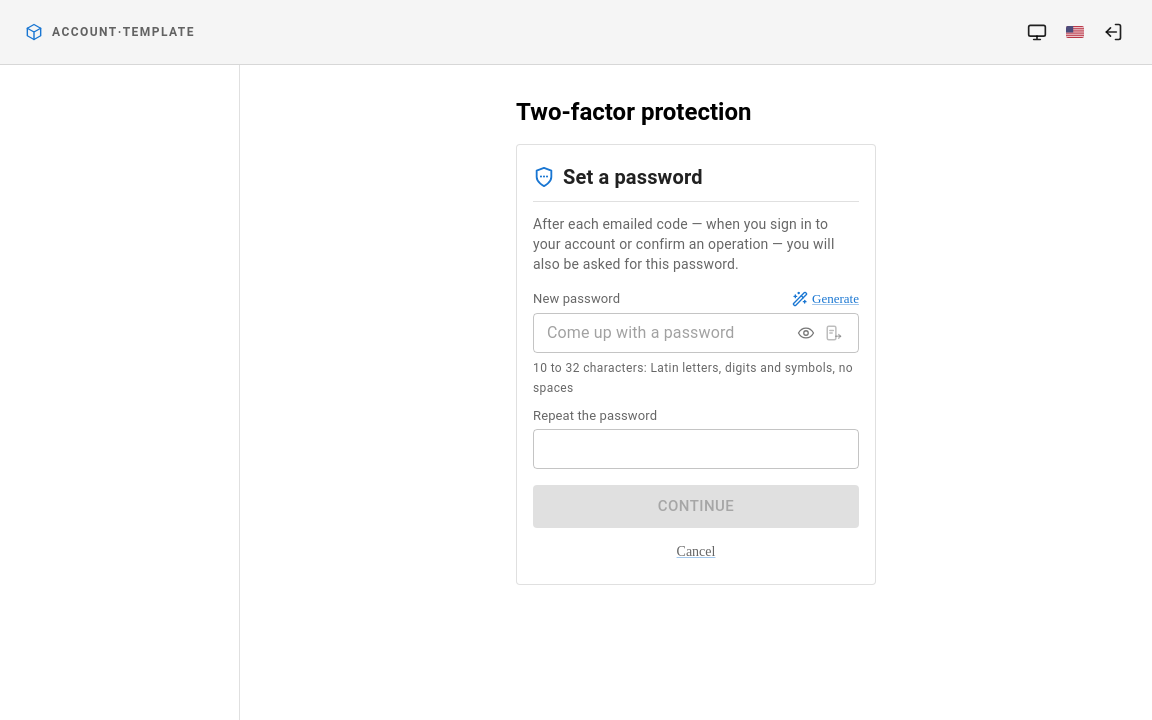
Test: PasswordSetupPage › keeps the length hint next to the rating
The width and height of the screenshot is (1152, 720).
Type "L$QI.qA6eu7zG%7w" into the password field with test id "field-new_password" at coordinates (658, 333), box [533,313,784,353]
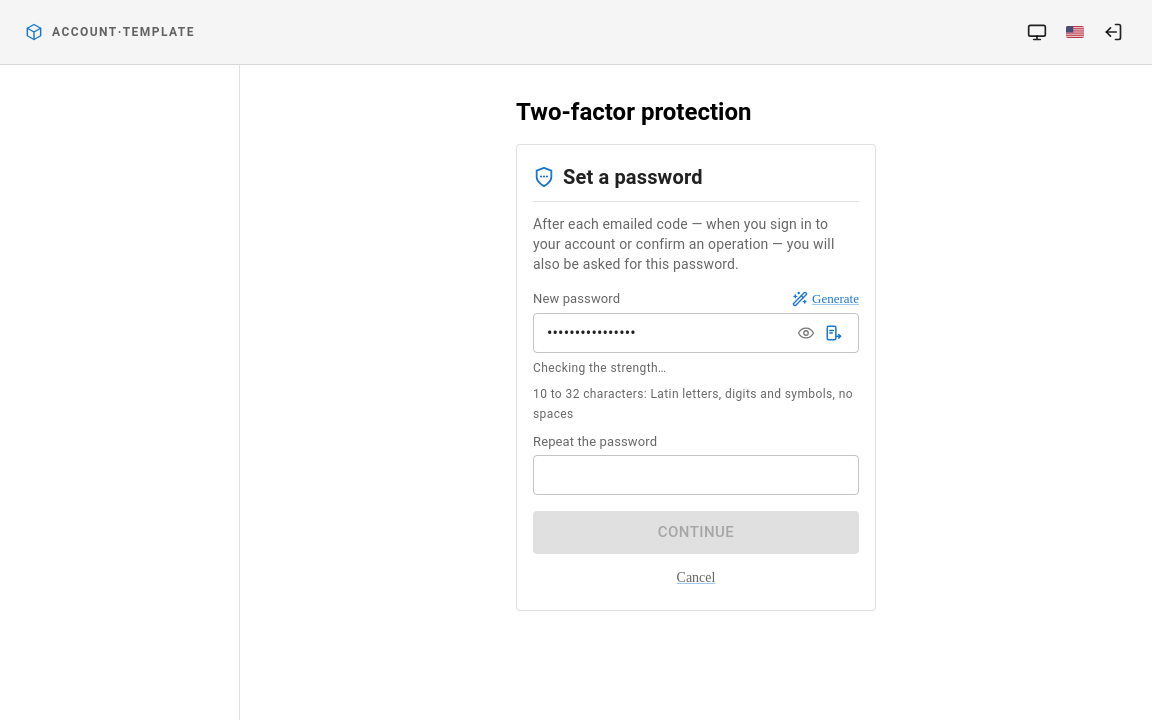
Type "L$QI.qA6eu7zG%7w" into the password field with test id "field-repeat_password" at coordinates (696, 475), box [533,455,859,495]
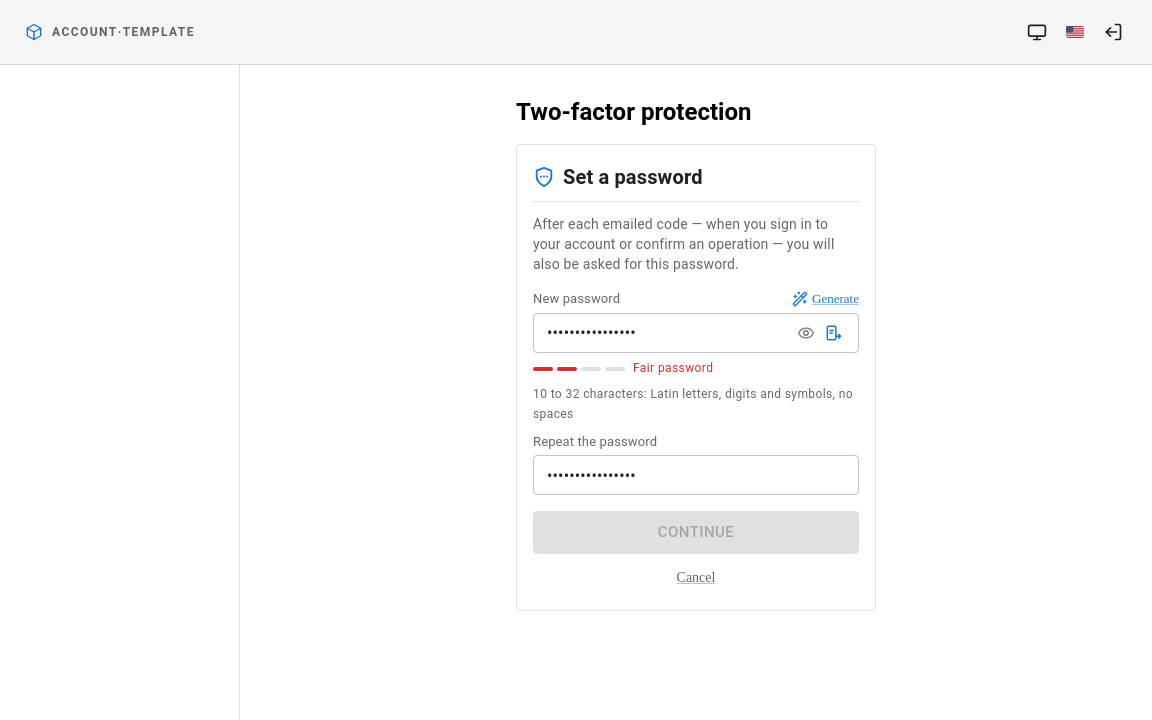
Now the text "Fair password" is shown, box [633,359,713,379]
